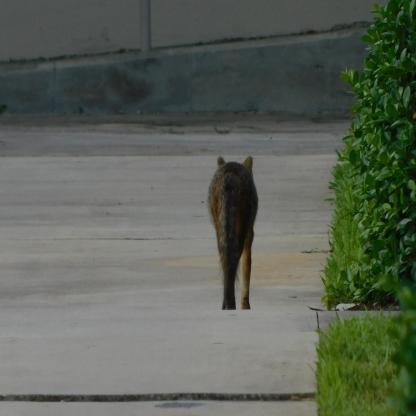zorro: (206, 152, 264, 315)
